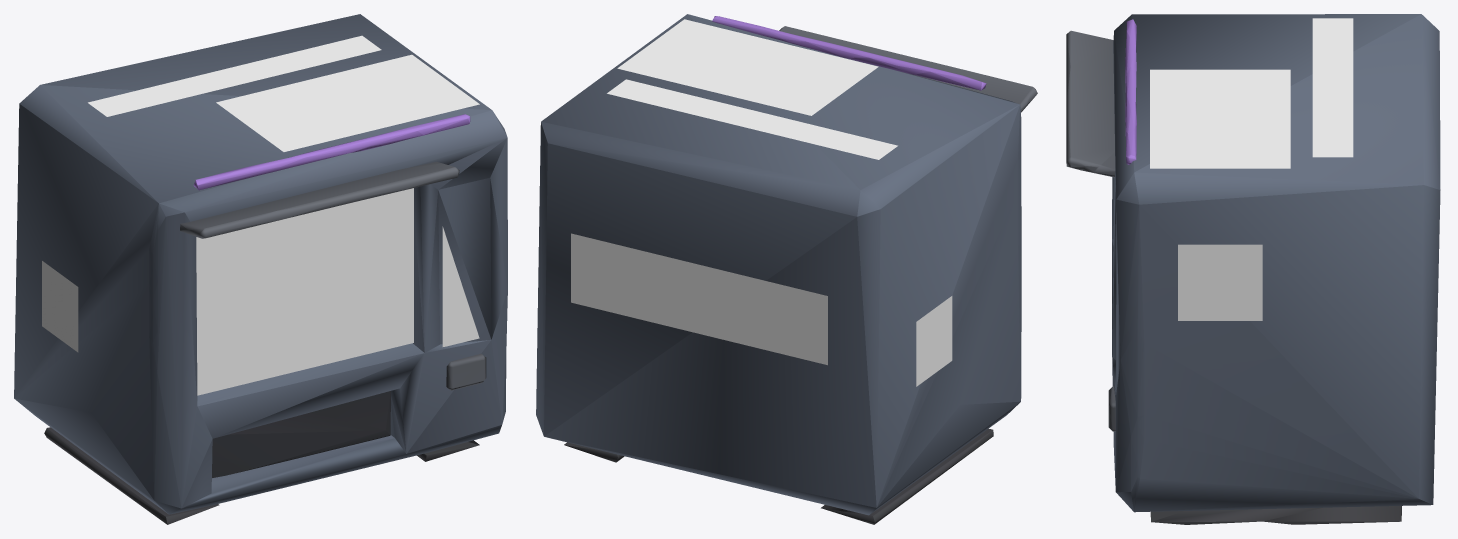
The model's file is distributeur_a.glb.
3 views of the same model, side by side, from view 1: azimuth 30°, elevation 25°; view 2: azimuth 150°, elevation 25°; view 3: azimuth 270°, elevation 25° (orthographic). The views are drawn at different scales.
Parts seen in each view (by area): view 1: distributeur_a, distributeur_a_decallit, distributeur_a_decal, distributeur_a_glow; view 2: distributeur_a, distributeur_a_decal, distributeur_a_glow; view 3: distributeur_a, distributeur_a_decal, distributeur_a_glow.
Part boxes in pixels (<box>): distributeur_a: <box>14,14,507,524</box>; distributeur_a_decallit: <box>196,188,479,395</box>; distributeur_a_decal: <box>42,35,479,352</box>; distributeur_a_glow: <box>193,114,470,190</box>; distributeur_a: <box>536,14,1037,524</box>; distributeur_a_decal: <box>571,19,952,386</box>; distributeur_a_glow: <box>712,16,986,90</box>; distributeur_a: <box>1066,14,1440,524</box>; distributeur_a_decal: <box>1150,18,1353,320</box>; distributeur_a_glow: <box>1125,19,1136,164</box>.
Size of the model in its own units: 0.912 by 0.8611 by 0.8043.
